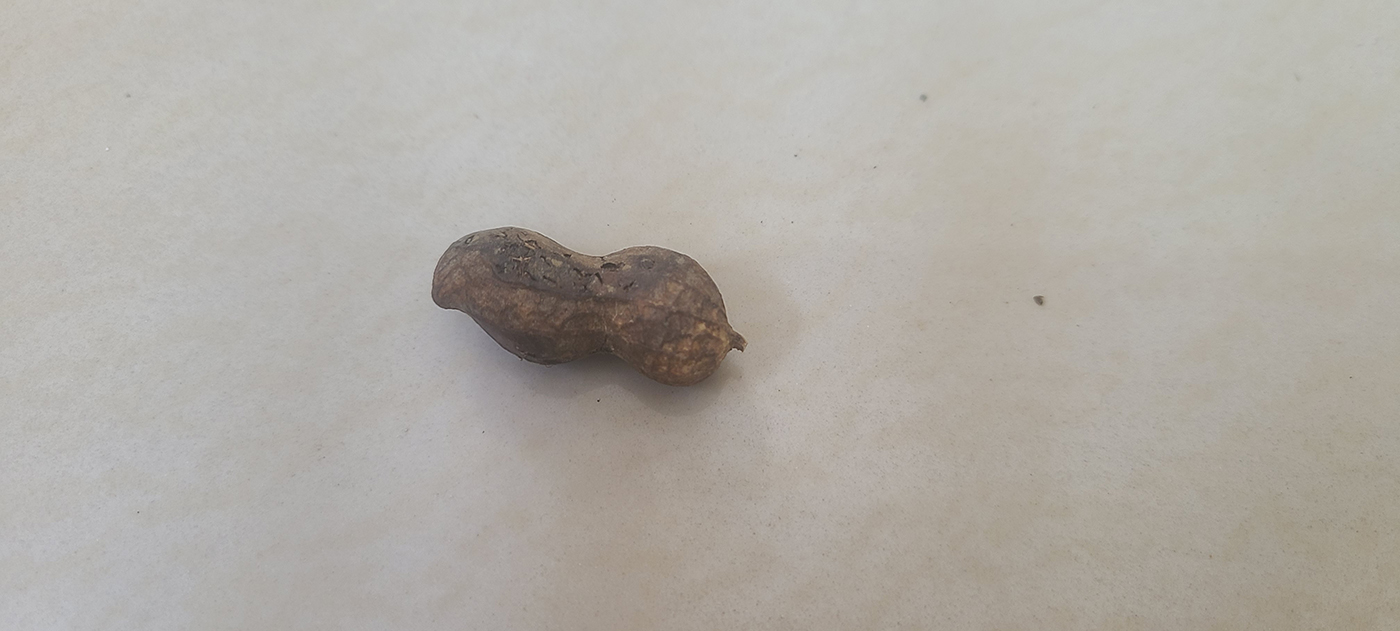l: (431, 224, 748, 382)
